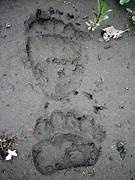rat: (6, 53, 56, 131), (78, 57, 127, 134)
